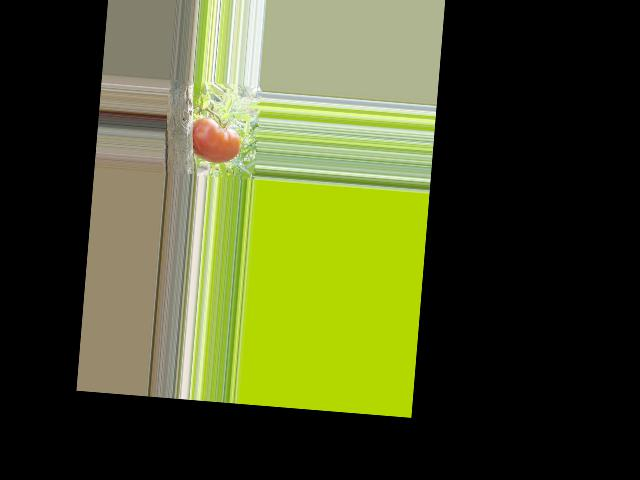tomato: (189, 116, 243, 164)
